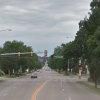Tree: (50, 16, 100, 80)
